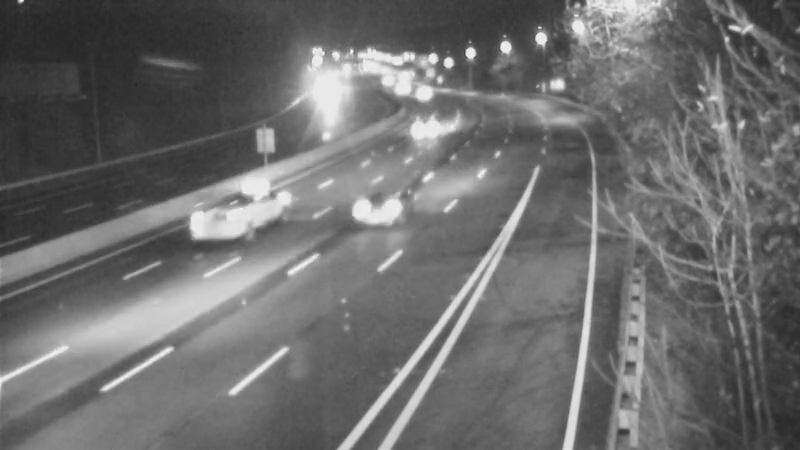vehicle: (341, 170, 421, 250), (177, 175, 257, 255), (361, 58, 411, 108), (380, 62, 430, 112), (394, 67, 444, 117), (401, 95, 451, 145), (303, 66, 353, 116)
